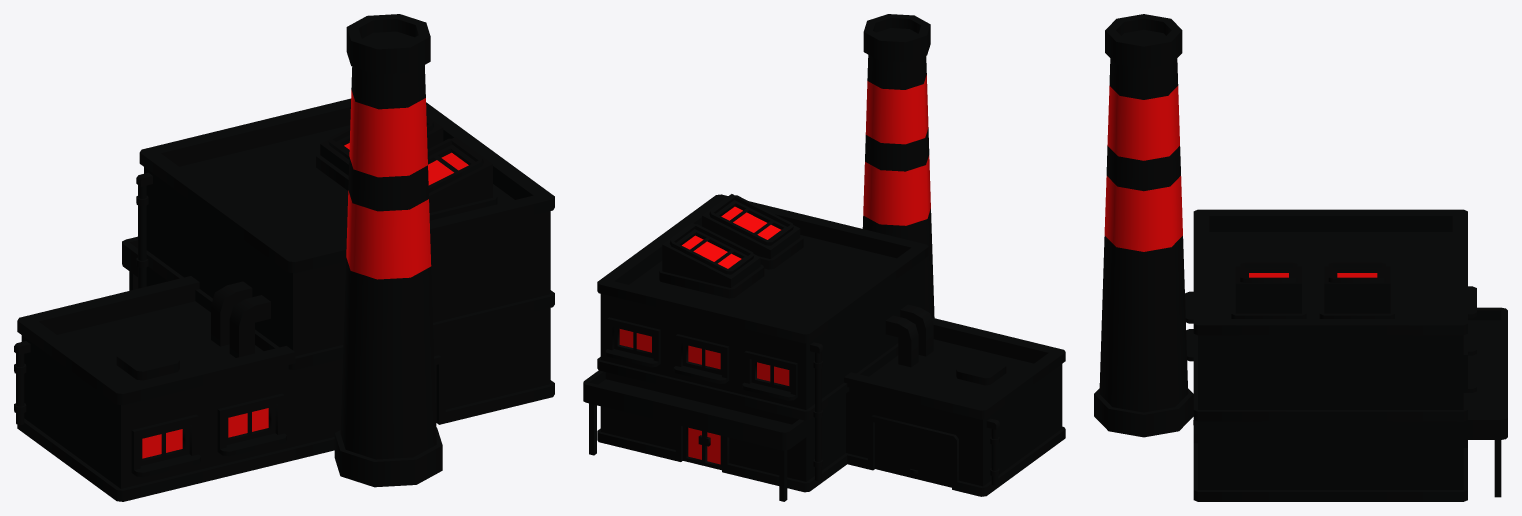
The model's file is building-l.glb.
The picture shows the model from 3 angles, left to right: view 1: azimuth 30°, elevation 25°; view 2: azimuth 150°, elevation 25°; view 3: azimuth 270°, elevation 25°; orthographic projection. The views are drawn at different scales.
Visible parts, largest first — view 1: building-l; view 2: building-l; view 3: building-l.
Part boxes in pixels (<box>): building-l: <box>14,14,554,501</box>; building-l: <box>583,14,1065,501</box>; building-l: <box>1094,14,1507,501</box>.
Bounding box in the file's own units: 2.08 × 1.92 × 1.87.
Materials: 1 (1 with a texture image).
